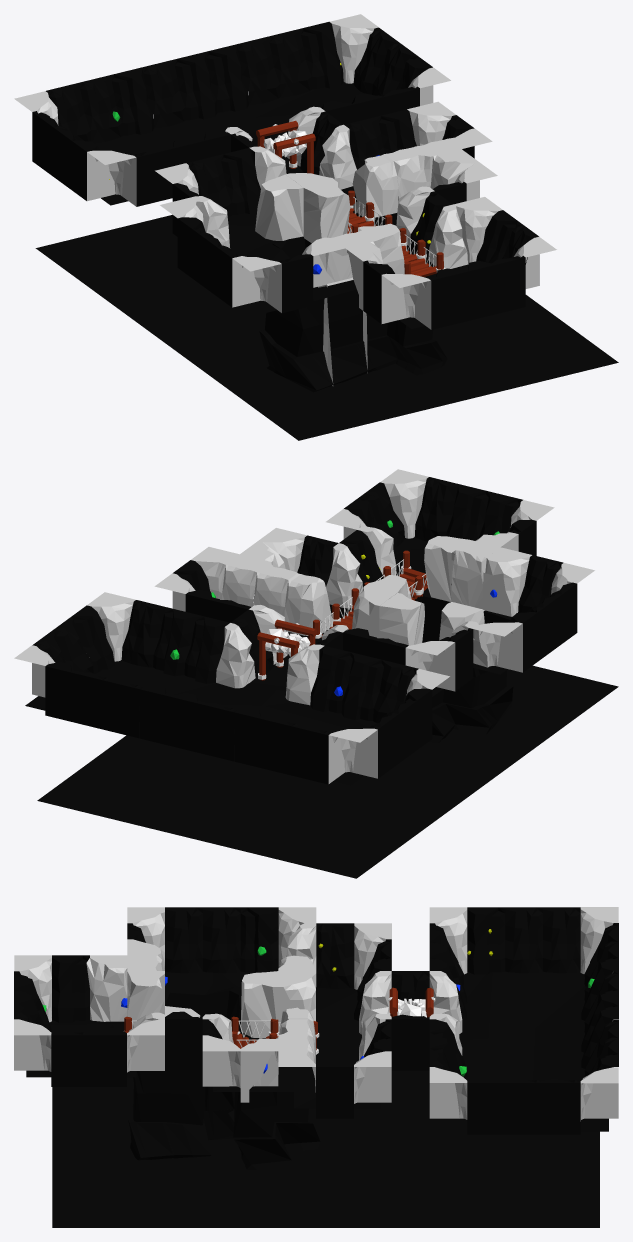
File: Nivel_05.fbx
The picture shows the model from 3 angles, top to bottom: view 1: azimuth 30°, elevation 25°; view 2: azimuth 150°, elevation 25°; view 3: azimuth 270°, elevation 25°; orthographic projection. The views are drawn at different scales.
Visible parts, largest first — view 1: Plane055, Plane058, Cylinder259, Cylinder254; view 2: Plane055, Plane058, Cylinder259, GeoSphere137; view 3: Plane055, Plane058, GeoSphere137, Cylinder259, Cylinder248.
Part boxes in pixels (left/top/right/bottom): Plane055: left=14, top=14, right=556, bottom=392; Plane058: left=35, top=215, right=618, bottom=440; Cylinder259: left=256, top=120, right=315, bottom=173; Cylinder254: left=404, top=241, right=443, bottom=276; Plane055: left=14, top=469, right=594, bottom=785; Plane058: left=37, top=665, right=618, bottom=878; Cylinder259: left=257, top=619, right=316, bottom=680; GeoSphere137: left=265, top=628, right=310, bottom=656; Plane055: left=14, top=907, right=618, bottom=1169; Plane058: left=52, top=1070, right=599, bottom=1227; GeoSphere137: left=397, top=998, right=426, bottom=1017; Cylinder259: left=389, top=987, right=433, bottom=1017; Cylinder248: left=231, top=1016, right=278, bottom=1048.
Size of the model in its own units: 556 by 267 by 807.
